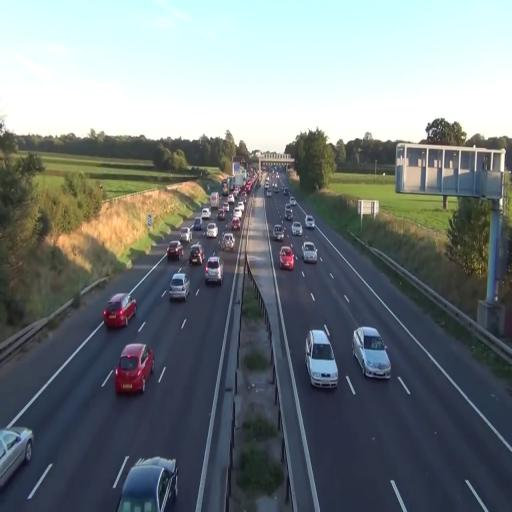vehicle: (114, 455, 178, 512), (0, 425, 34, 492), (304, 326, 338, 392), (114, 342, 154, 396), (352, 326, 391, 379), (102, 292, 137, 331), (169, 270, 189, 302), (204, 255, 224, 285), (279, 245, 295, 271), (301, 240, 318, 264), (189, 244, 205, 268), (166, 240, 182, 263), (222, 231, 236, 252), (232, 208, 243, 232), (273, 222, 285, 241), (304, 215, 315, 230)
